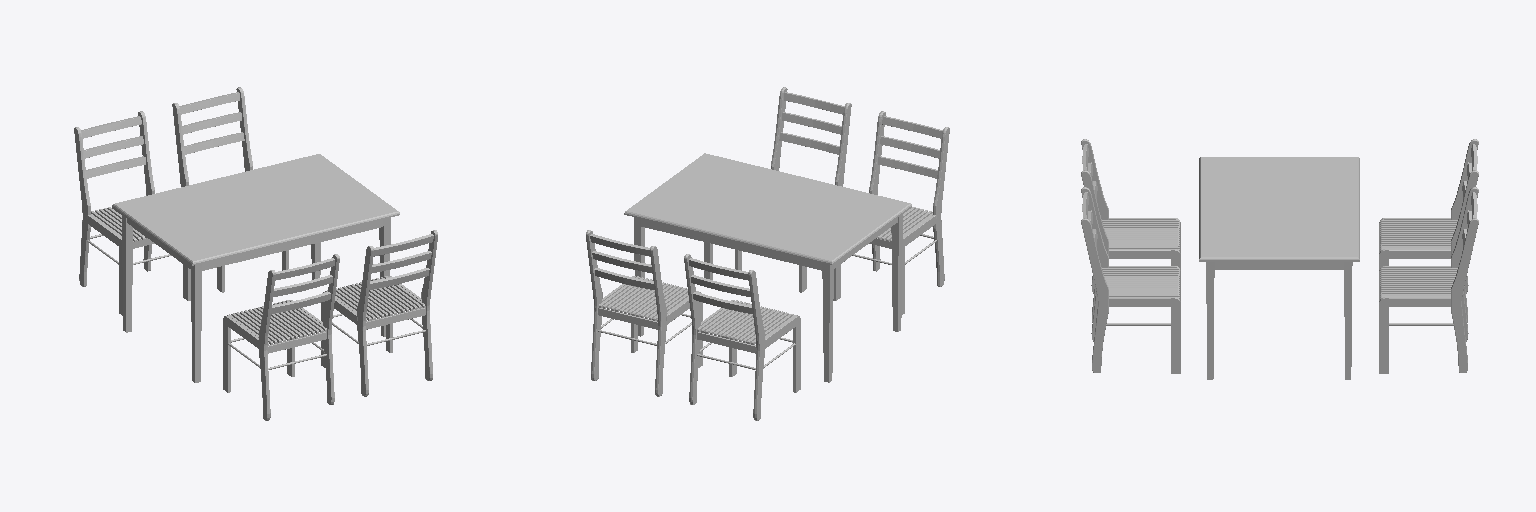
File: Dining chair 2.obj
3 views of the same model, side by side, from view 1: azimuth 30°, elevation 25°; view 2: azimuth 150°, elevation 25°; view 3: azimuth 270°, elevation 25° (orthographic).
Parts seen in each view (by area): view 1: Table_Cube.022, Chair_2_Cube.024, Chair_3_Cube.025, Chair_1_Cube.023, Chair_4_Cube.014; view 2: Table_Cube.022, Chair_1_Cube.023, Chair_4_Cube.014, Chair_2_Cube.024, Chair_3_Cube.025; view 3: Table_Cube.022, Chair_4_Cube.014, Chair_3_Cube.025, Chair_1_Cube.023, Chair_2_Cube.024.
Boxes of the visible parts, box(x1,y1,x2,y2) form: Table_Cube.022: box(112, 154, 399, 382); Chair_2_Cube.024: box(223, 254, 339, 420); Chair_3_Cube.025: box(321, 230, 437, 396); Chair_1_Cube.023: box(74, 111, 190, 315); Chair_4_Cube.014: box(172, 87, 288, 292); Table_Cube.022: box(624, 153, 911, 382); Chair_1_Cube.023: box(684, 254, 800, 420); Chair_4_Cube.014: box(586, 230, 702, 396); Chair_2_Cube.024: box(833, 111, 949, 314); Chair_3_Cube.025: box(735, 87, 851, 292); Table_Cube.022: box(1199, 157, 1359, 379); Chair_4_Cube.014: box(1379, 187, 1478, 373); Chair_3_Cube.025: box(1081, 187, 1180, 373); Chair_1_Cube.023: box(1379, 139, 1478, 322); Chair_2_Cube.024: box(1081, 139, 1180, 322).
Bounding box in the file's own units: 1.31 × 0.926 × 2.17.